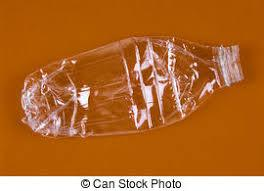Plastic: (16, 33, 248, 148)
